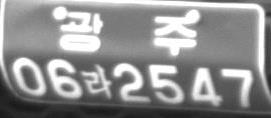0: (11, 56, 47, 97)
2: (112, 61, 151, 103)
4: (191, 66, 222, 106)
5: (151, 63, 185, 104)
6: (48, 57, 82, 99)
7: (223, 67, 254, 107)
광주_D: (58, 10, 197, 56)
라: (83, 63, 112, 98)
